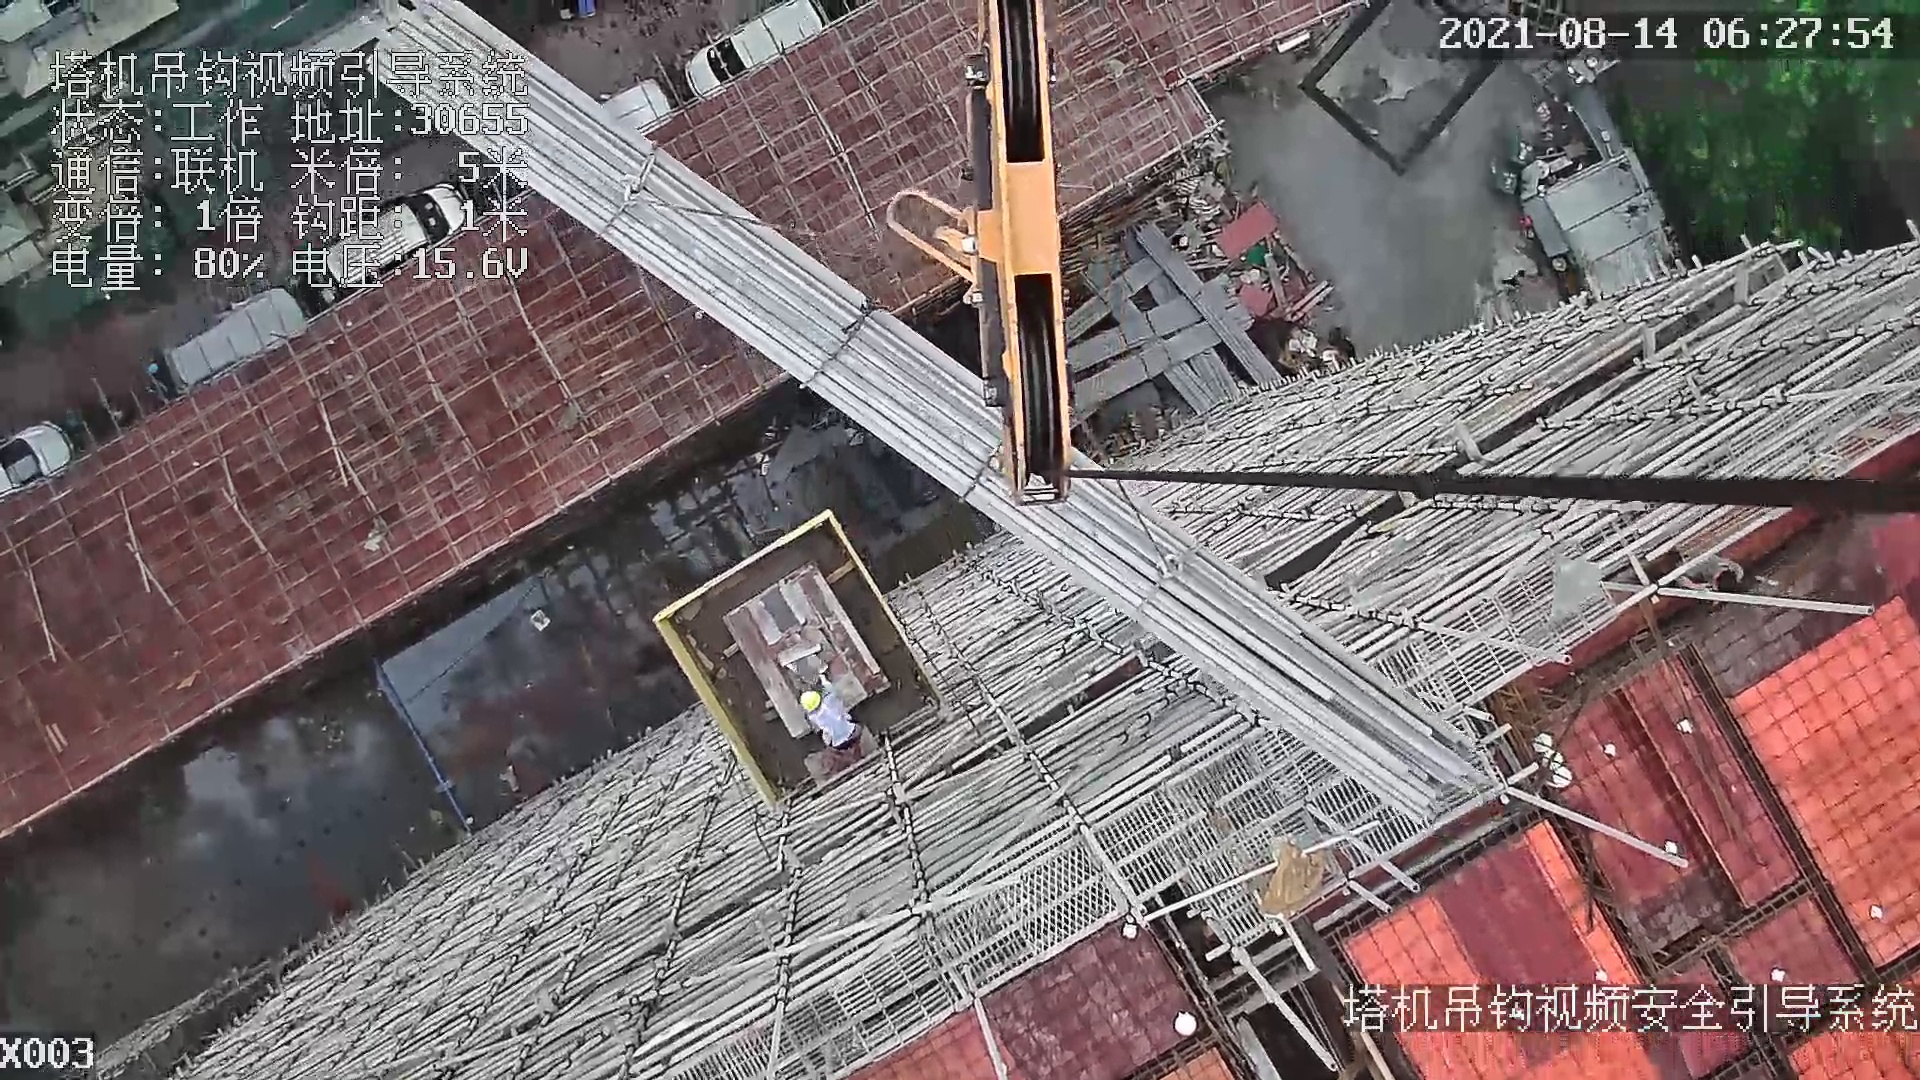helmet: (800, 678, 833, 720)
hook: (965, 1, 1072, 510)
person: (799, 666, 886, 759)
